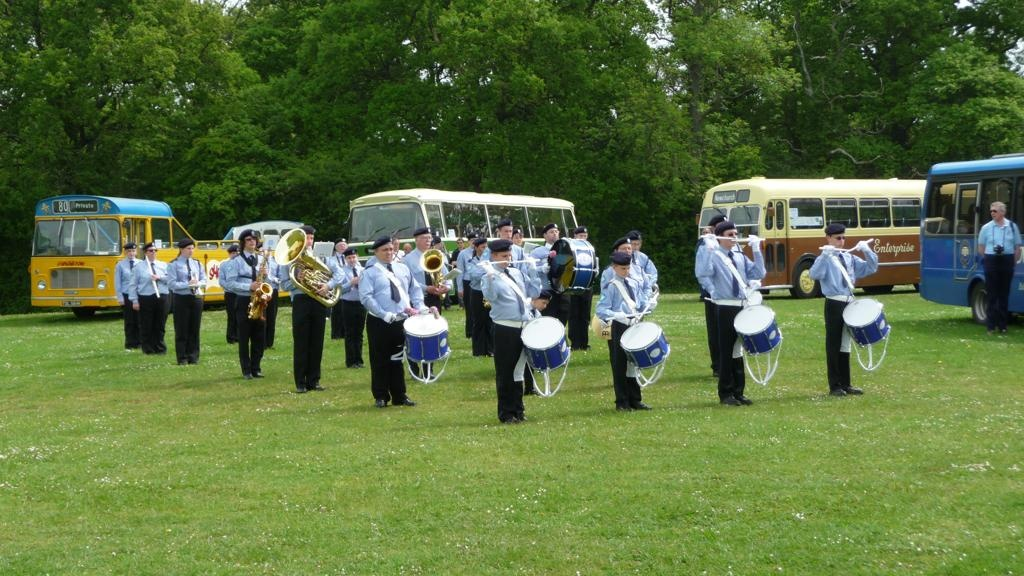human_face: (722, 227, 738, 246), (378, 243, 392, 260), (496, 250, 510, 266), (416, 234, 430, 248), (832, 232, 844, 248), (500, 225, 512, 240), (989, 206, 1001, 220), (546, 227, 558, 241), (618, 262, 630, 276), (618, 244, 630, 258), (244, 236, 256, 248), (302, 233, 312, 246), (630, 238, 640, 250), (477, 243, 487, 255), (576, 232, 586, 242), (346, 254, 356, 264), (146, 246, 156, 256), (183, 244, 193, 254), (576, 232, 586, 240), (513, 234, 521, 244), (126, 248, 136, 256), (468, 237, 476, 245), (336, 242, 344, 250), (402, 244, 410, 252), (230, 251, 238, 259), (392, 241, 398, 251), (702, 228, 708, 236), (456, 240, 462, 248)
